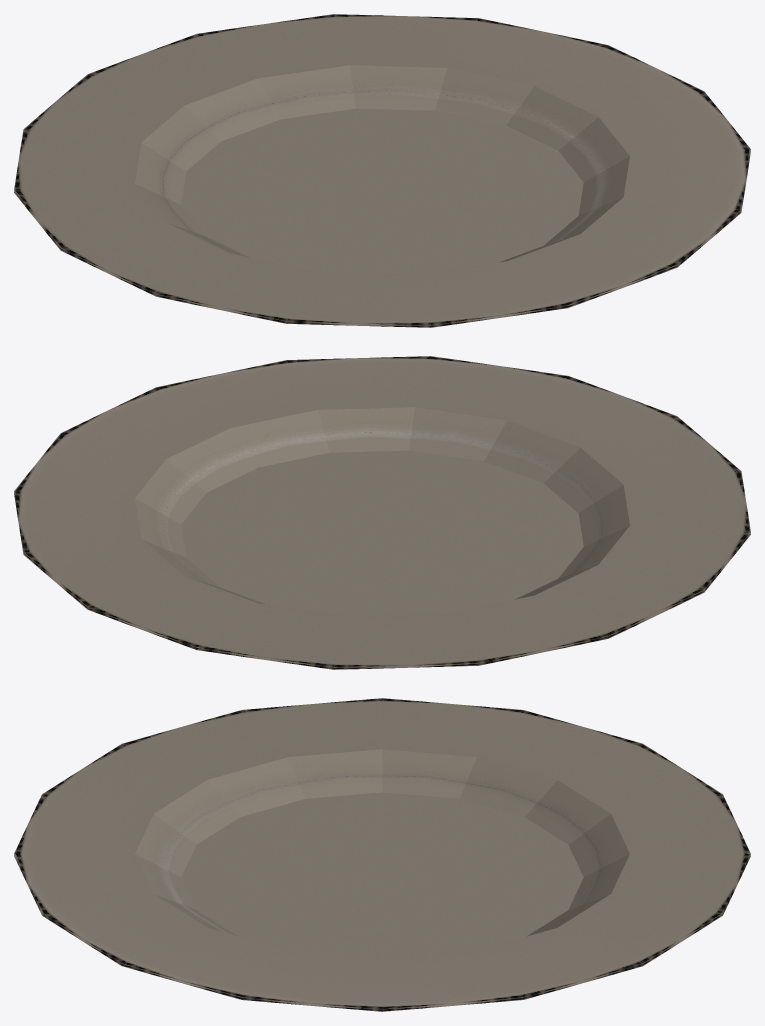
Rendered from plate01.fbx.
3 views of the same model, one above another, from view 1: azimuth 30°, elevation 25°; view 2: azimuth 150°, elevation 25°; view 3: azimuth 270°, elevation 25° (orthographic).
Parts seen in each view (by area): view 1: plate lp; view 2: plate lp; view 3: plate lp.
Boxes of the visible parts, box(x1,y1,x2,y2) form: plate lp: box(14, 14, 750, 327); plate lp: box(14, 356, 750, 669); plate lp: box(14, 698, 750, 1011).
Bounding box in the file's own units: 0.25 × 0.25 × 0.00966.
Materials: 1 (1 with a texture image).
